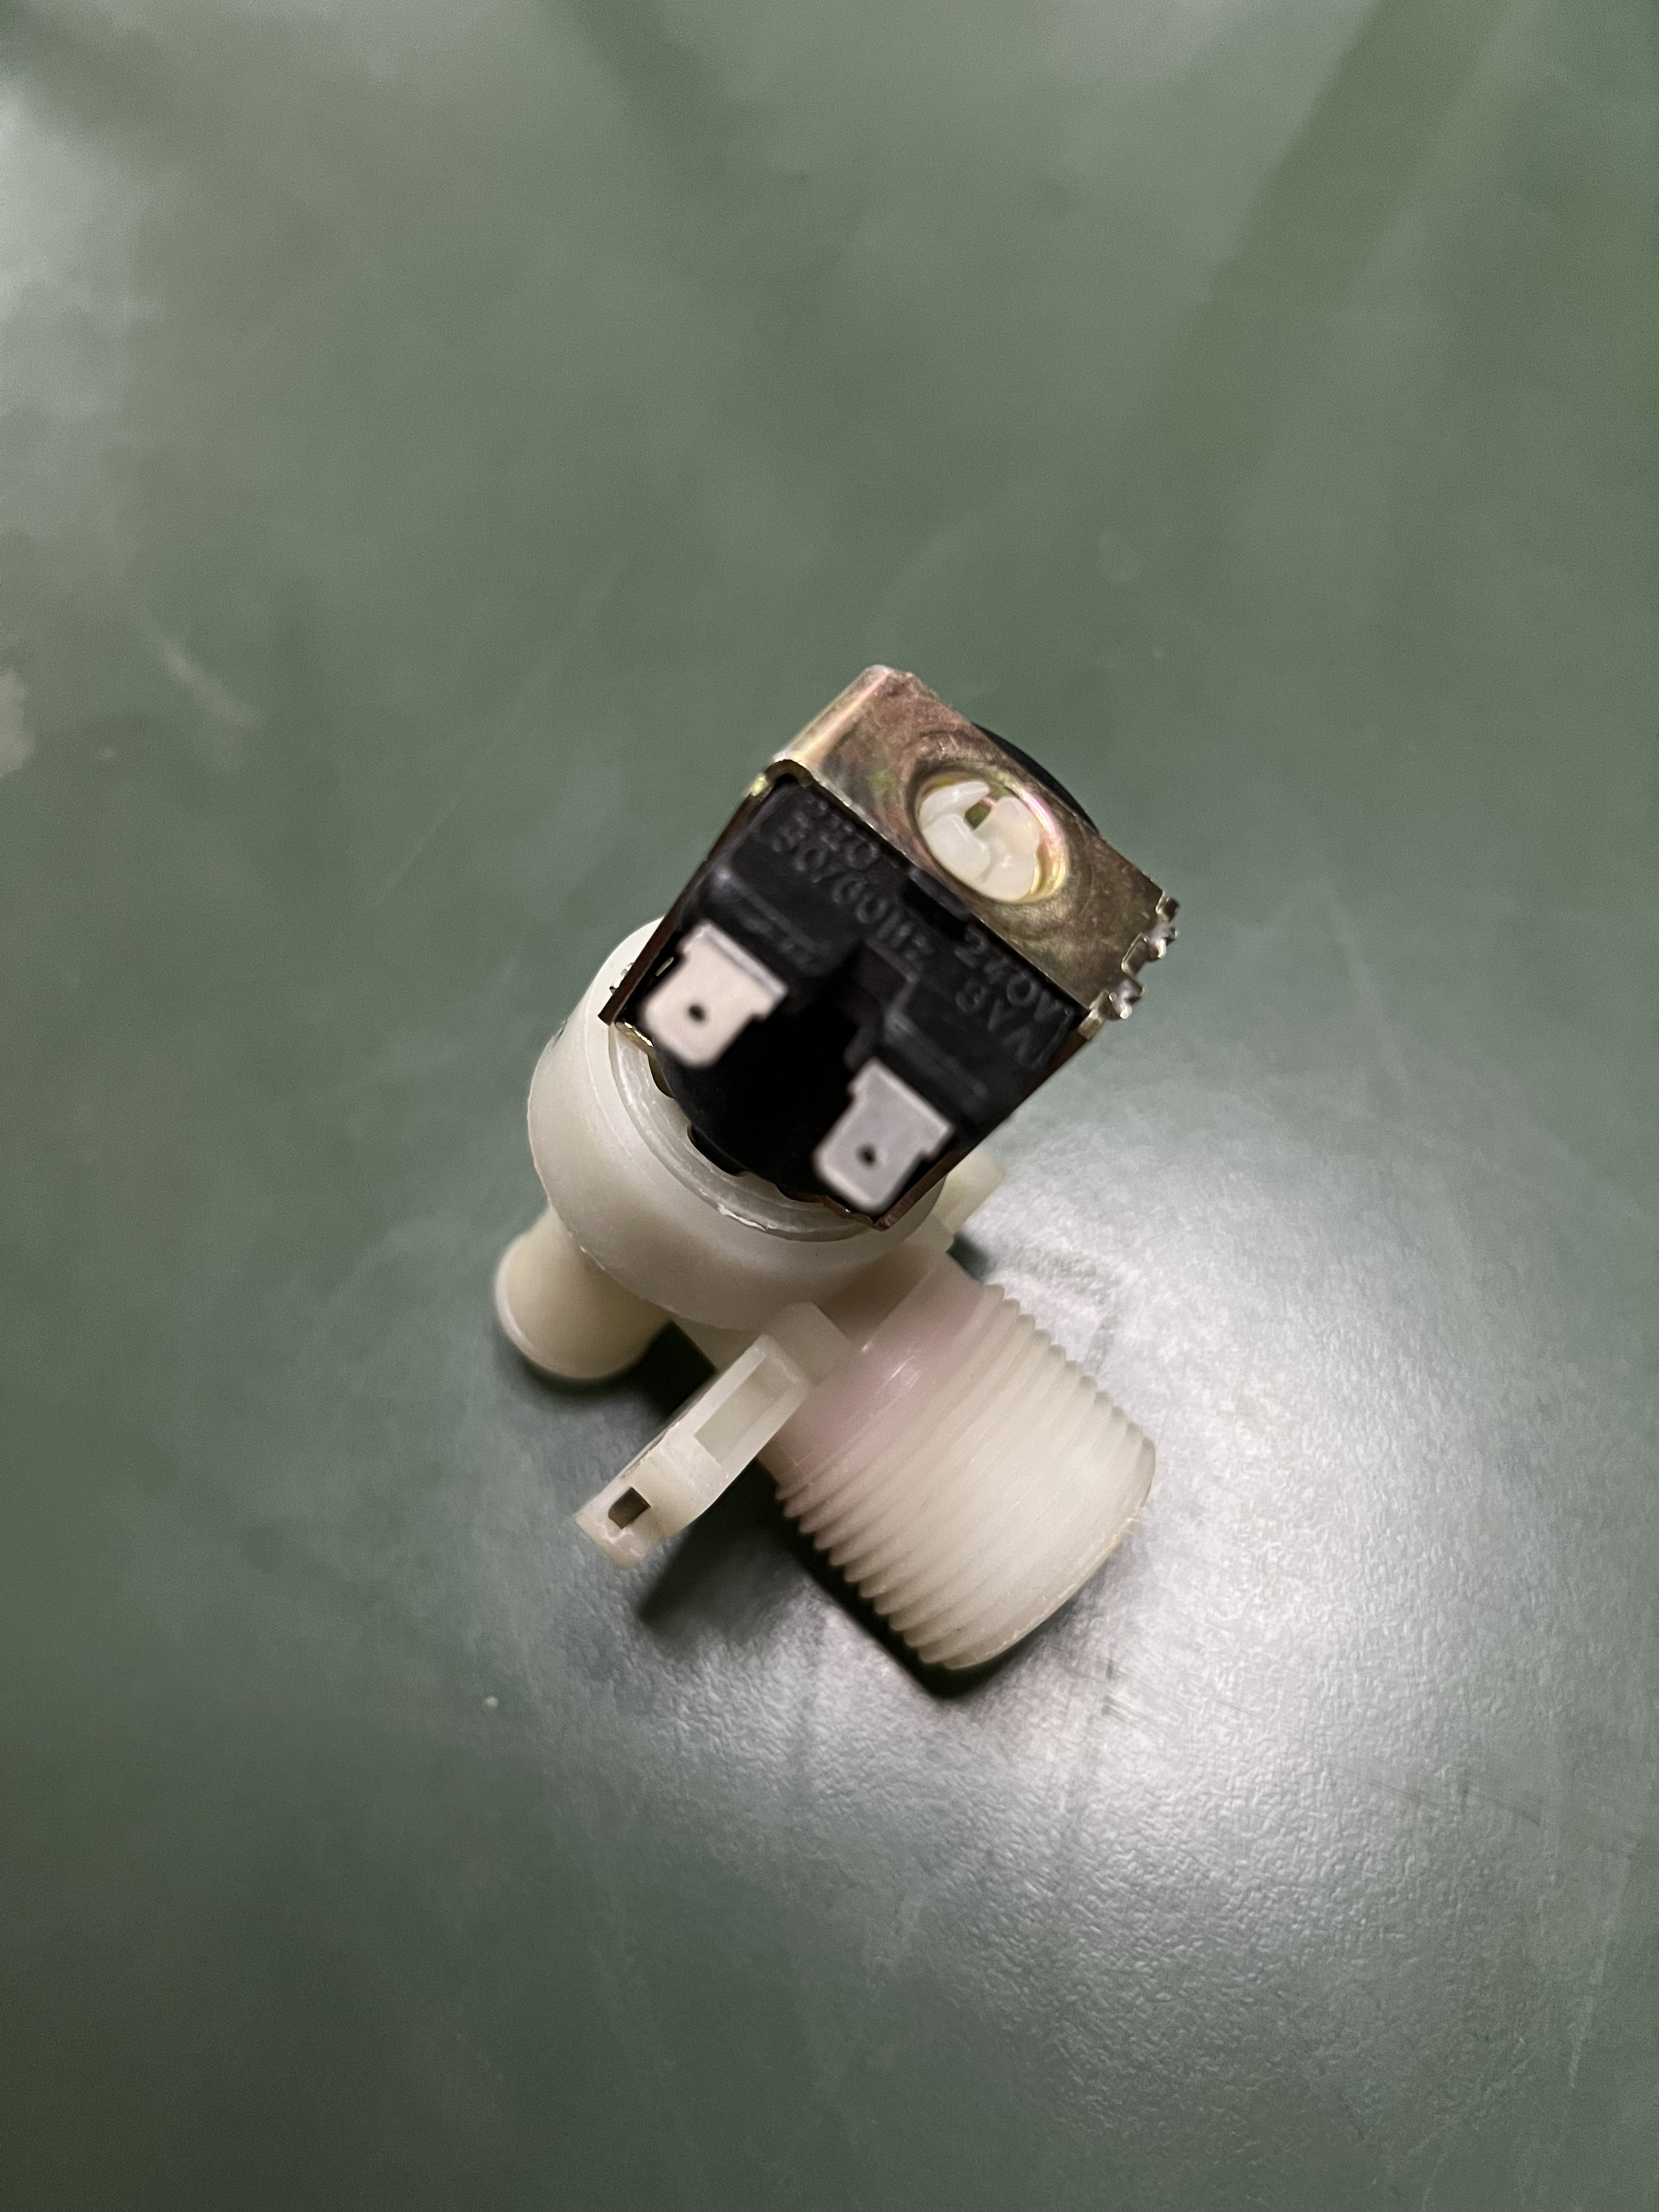godrej_inlet_valves: (436, 646, 1218, 1688)
